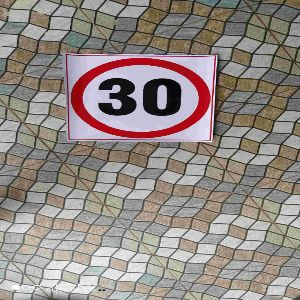speedlimit30: (65, 53, 216, 140)
